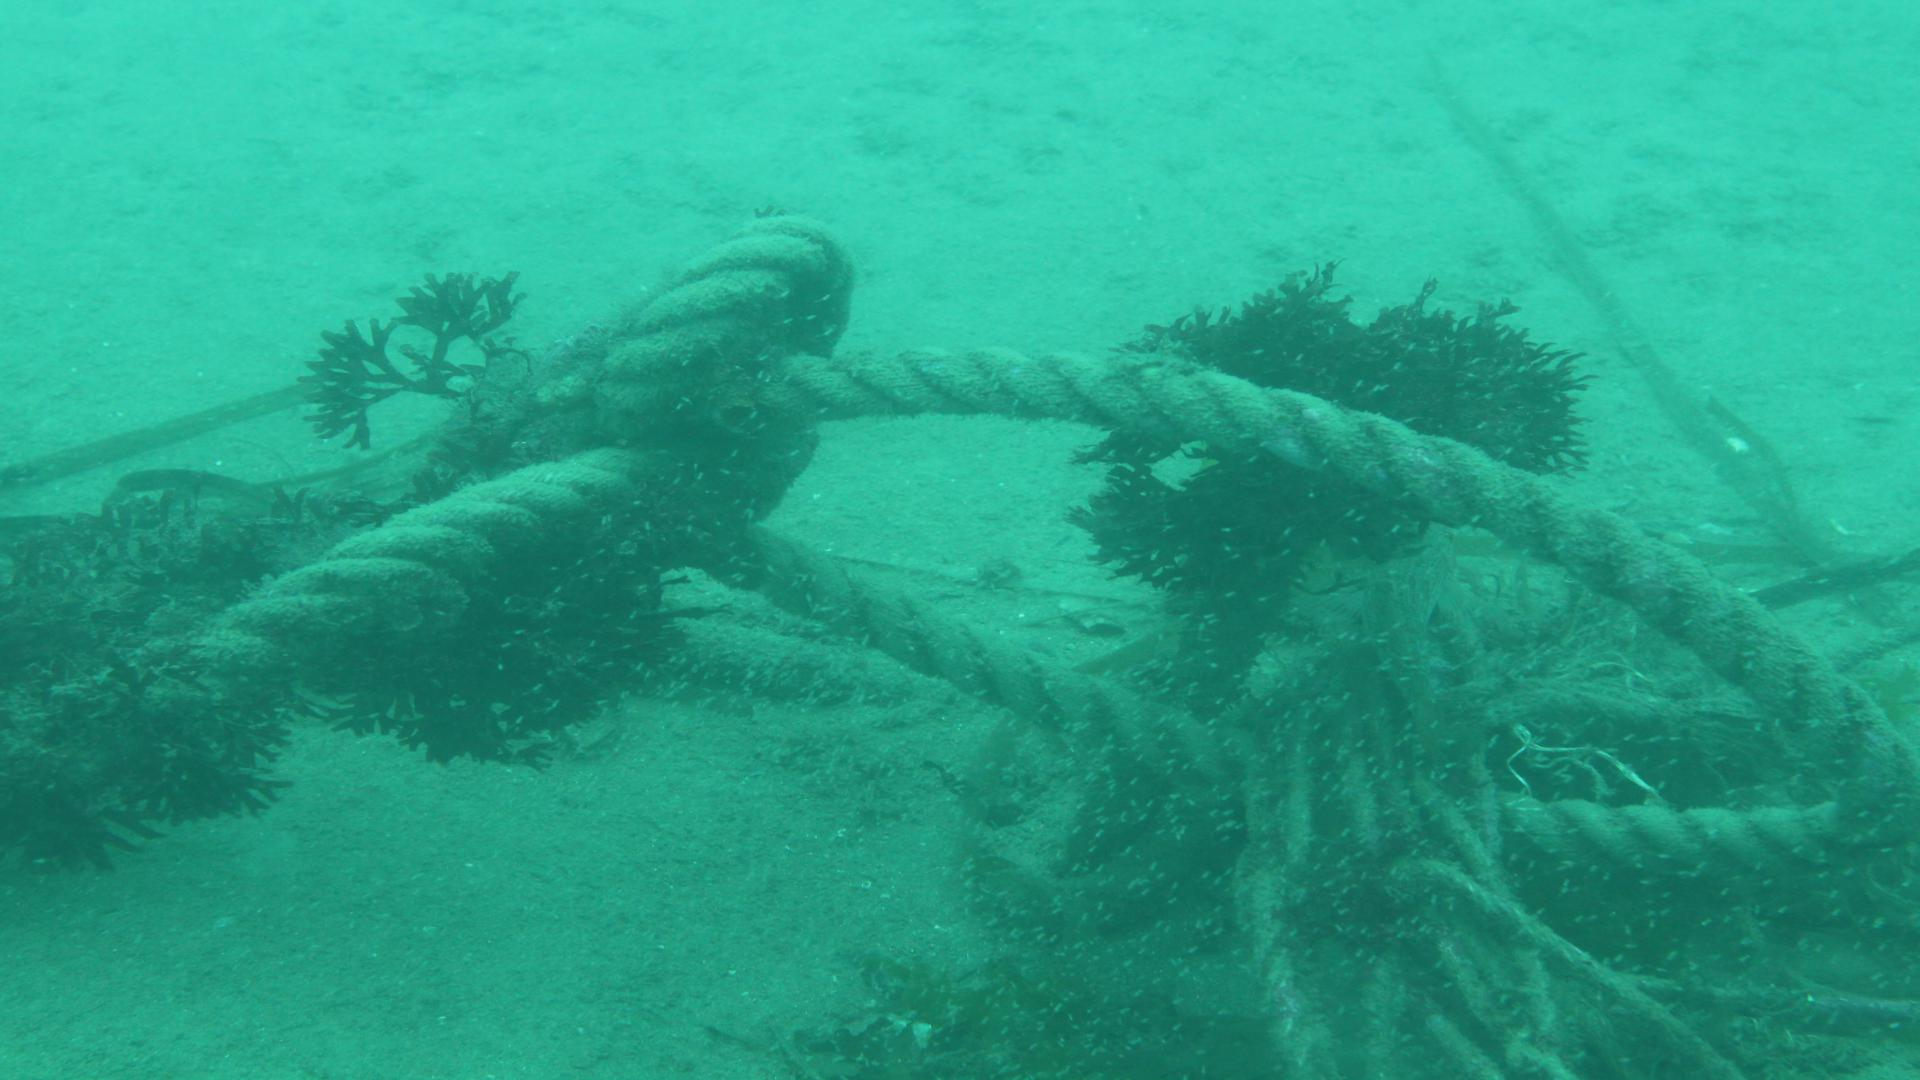bundle of ropes: (0, 214, 1920, 1080)
